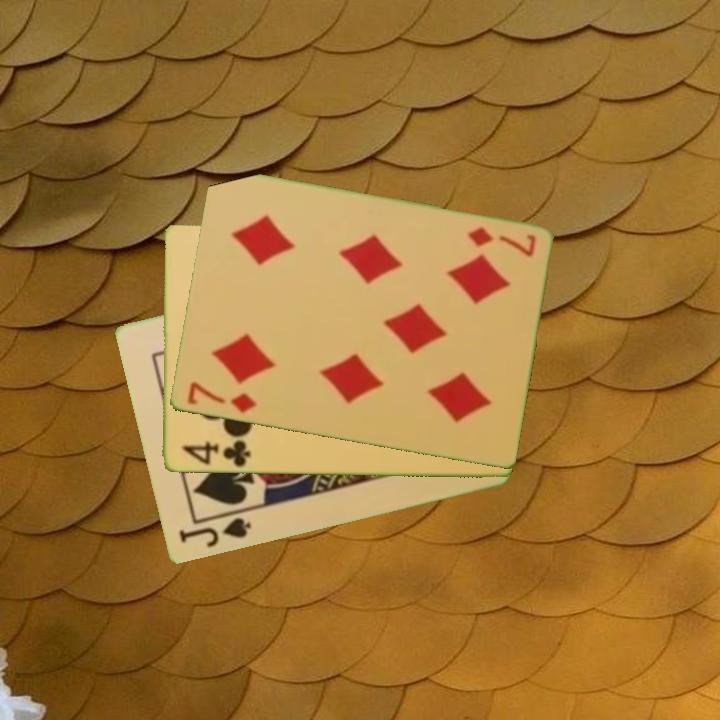4c: (178, 437, 253, 470)
7d: (183, 378, 259, 416), (463, 223, 539, 260)
Js: (175, 514, 254, 551)
